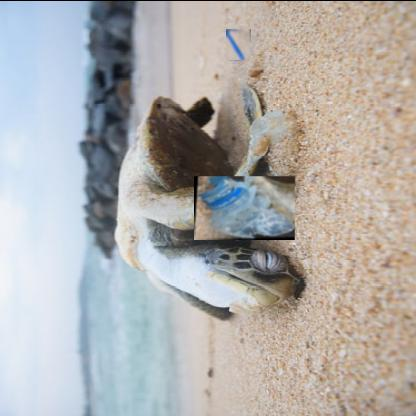bottle: (194, 174, 296, 239)
waste: (226, 27, 252, 59)
